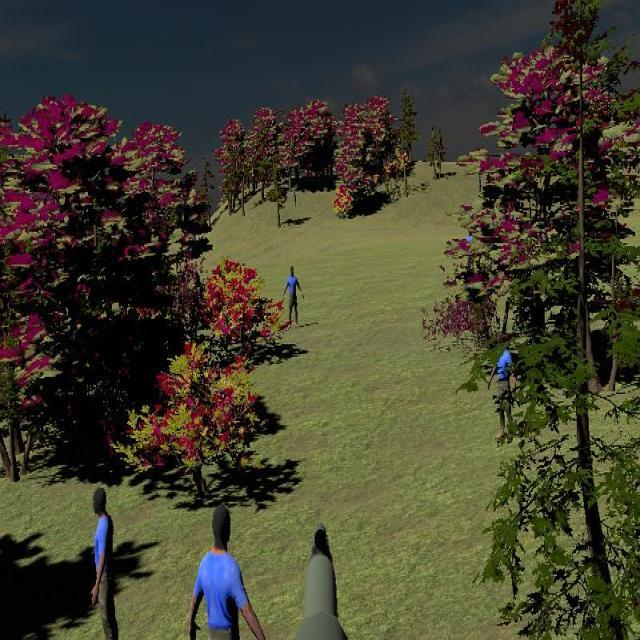Human: (188, 501, 271, 640), (90, 485, 125, 640), (488, 329, 515, 445), (283, 265, 304, 328)
